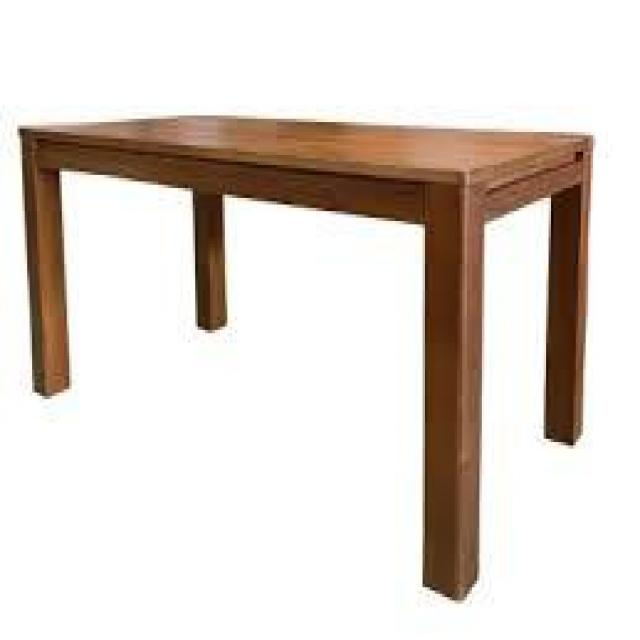table: (11, 66, 622, 610)
